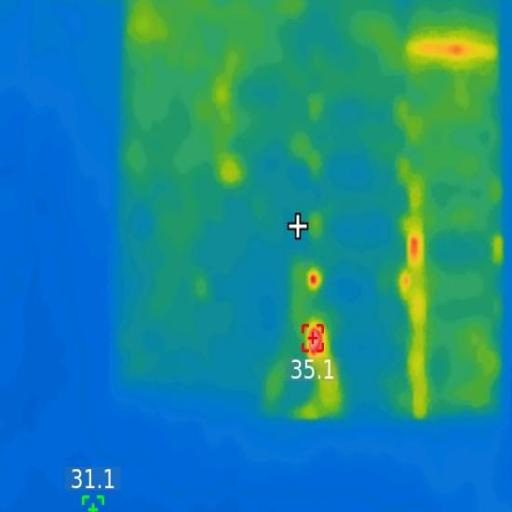hotspot: (305, 328, 328, 352), (410, 232, 422, 268), (308, 268, 322, 289)
